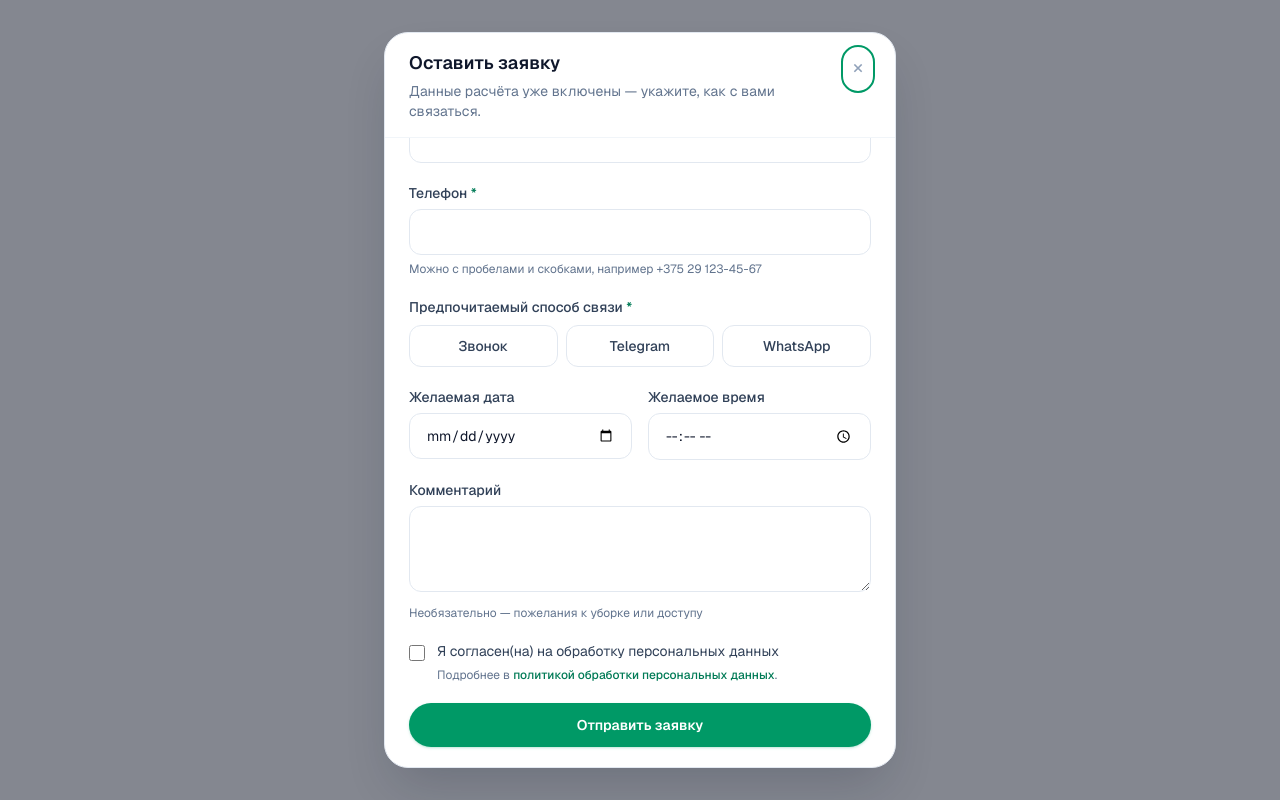
RequestQuoteDialog › shows field errors for required fields
This screenshot has width=1280, height=800.
(page scrolled)
Click the button with test id "request-submit-button": (640,725) [409,703,871,747]
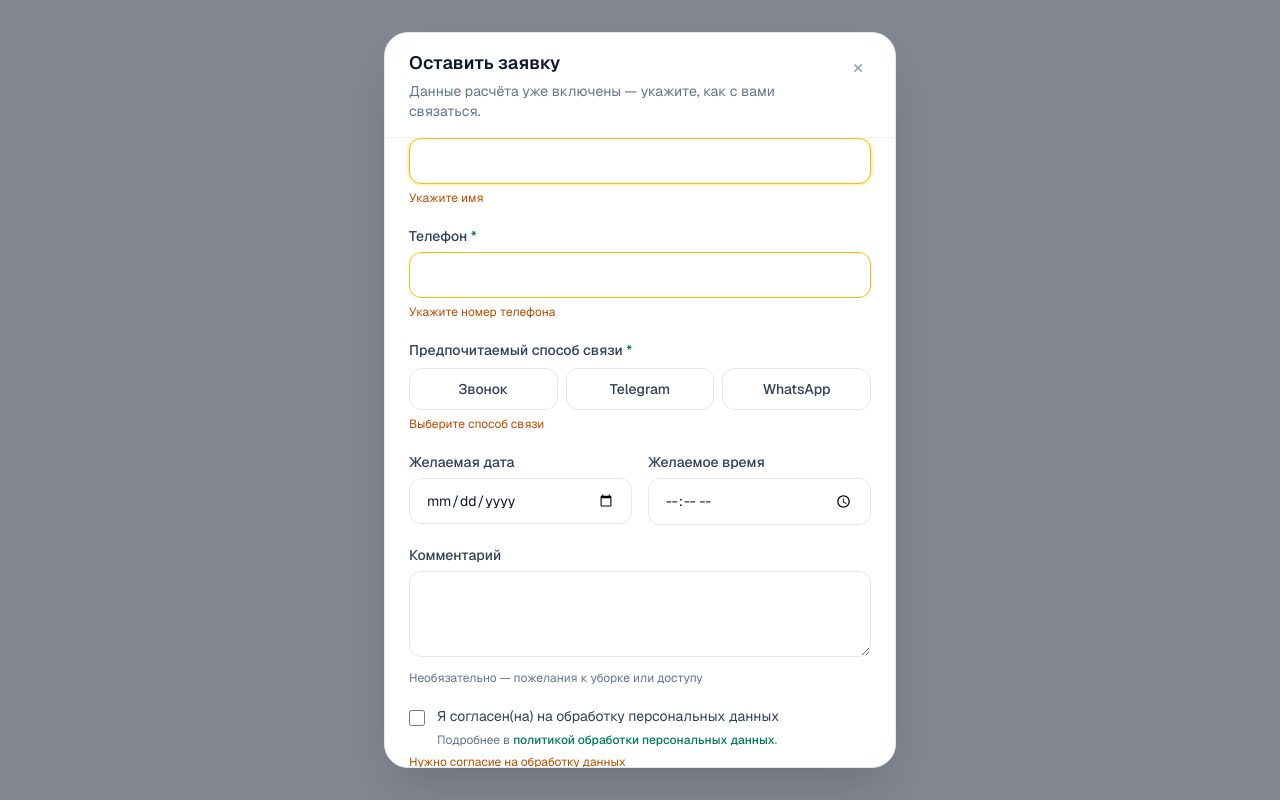
Expected: the text "Укажите имя" is shown, [409,190,484,206]
Expected: the text "Укажите номер телефона" is shown, [409,304,555,320]
Expected: the text "Выберите способ связи" is shown, [409,416,544,432]
